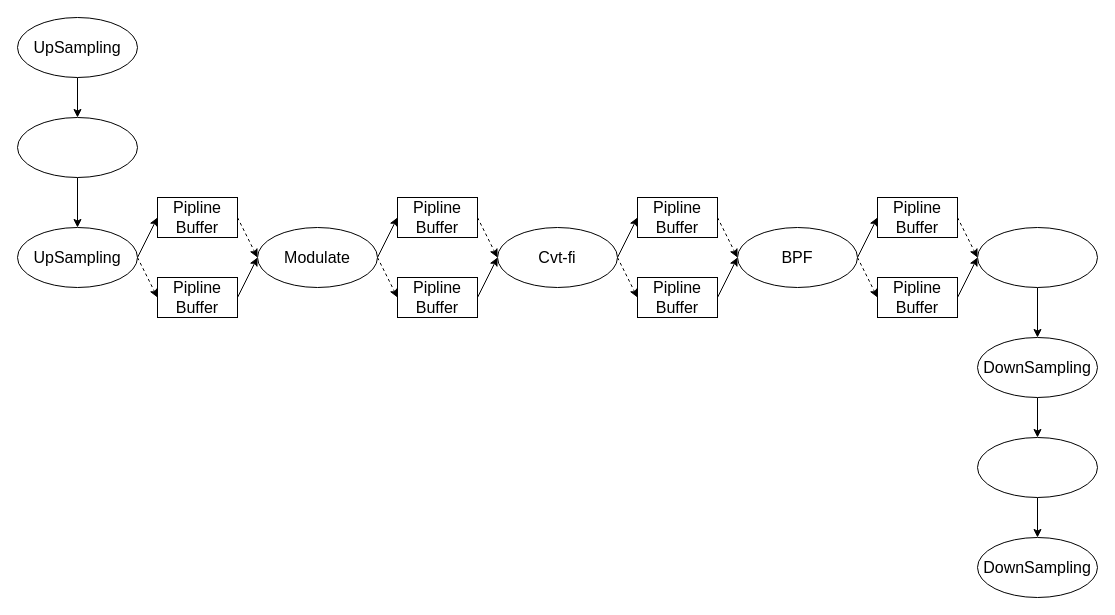
Image size: 1115x615. Some labels were removed from this diagram. The shapes that lost their labels are listed below. From the top down, each one's centre as x and y in pixels, then its label:
At point 77,147: "Composite".
At point 1037,257: "DeModulate".
At point 1037,467: "Restore".
